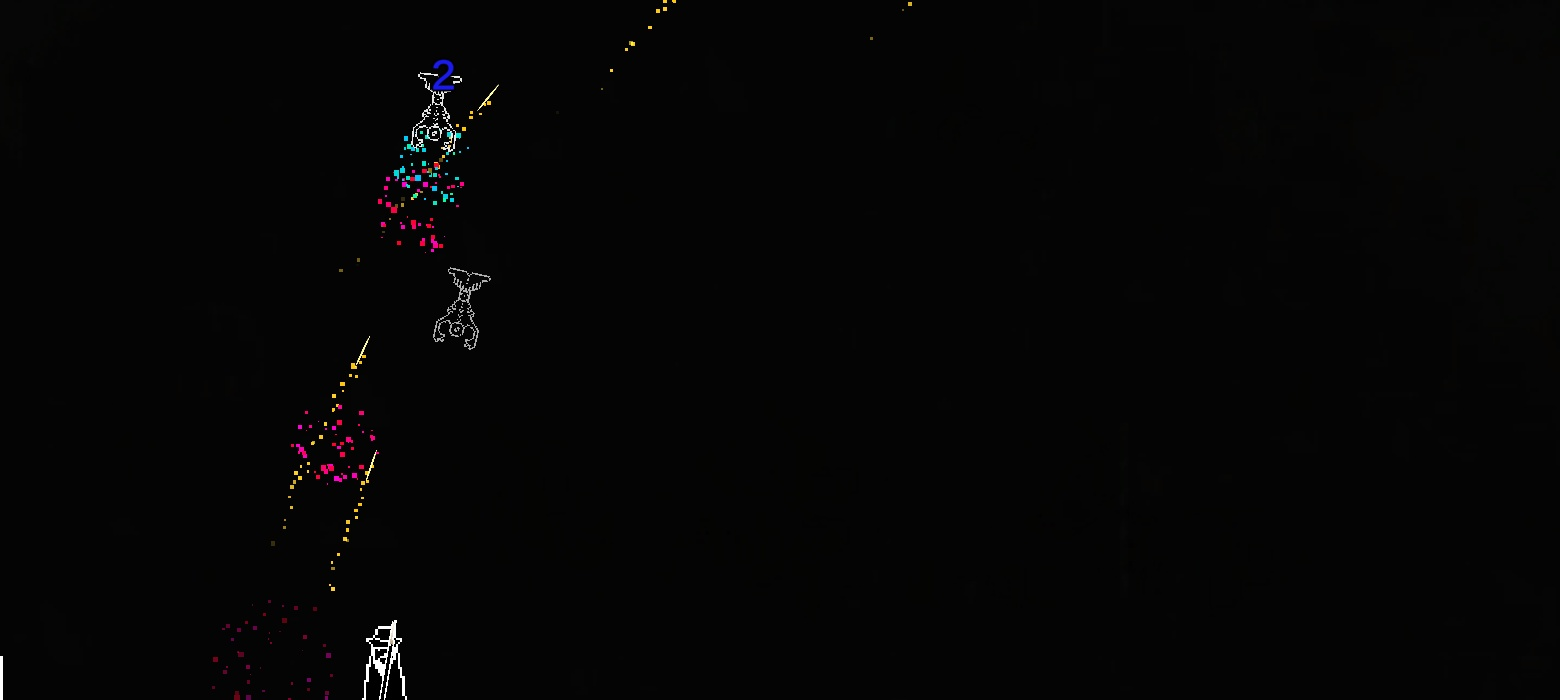enemy: (433, 267, 491, 351), (410, 72, 462, 152)
